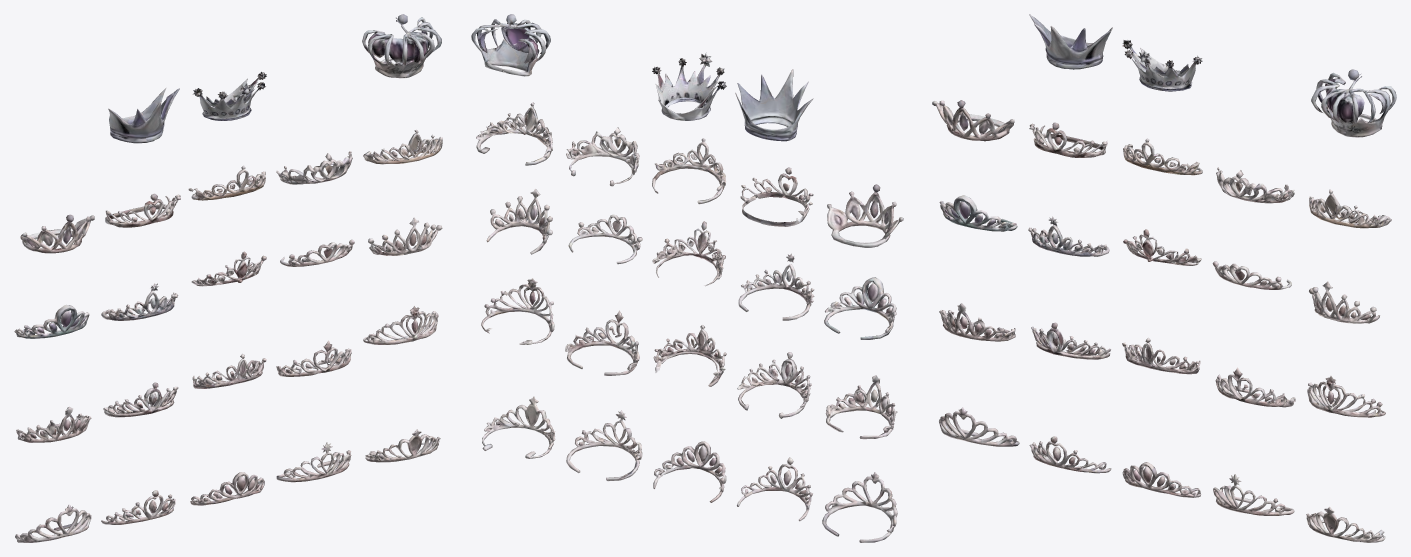
The picture shows the model from 3 angles, left to right: view 1: azimuth 30°, elevation 25°; view 2: azimuth 150°, elevation 25°; view 3: azimuth 330°, elevation 25°; orthographic projection. The views are drawn at different scales.
Parts seen in each view (by area): view 1: Mesh 48, Mesh 10, Mesh 19, Mesh 1, Mesh 44, Mesh 49, Mesh 50, Mesh 6, Mesh 18, Mesh 7, Mesh 12, Mesh 3 (+11 smaller); view 2: Mesh 48, Mesh 10, Mesh 19, Mesh 1, Mesh 6, Mesh 7, Mesh 12, Mesh 40, Mesh 50, Mesh 3, Mesh 49, Mesh 41 (+11 smaller); view 3: Mesh 48, Mesh 10, Mesh 19, Mesh 1, Mesh 44, Mesh 50, Mesh 6, Mesh 12, Mesh 18, Mesh 7, Mesh 3, Mesh 49 (+11 smaller).
Boxes of the visible parts, box(x1,y1,x2,y2) form: Mesh 48: box(362, 14, 441, 78); Mesh 10: box(108, 87, 179, 143); Mesh 19: box(192, 72, 266, 120); Mesh 1: box(20, 214, 94, 253); Mesh 44: box(363, 306, 438, 344); Mesh 49: box(368, 217, 442, 255); Mesh 50: box(363, 129, 442, 164); Mesh 6: box(14, 304, 89, 338); Mesh 18: box(105, 193, 180, 227); Mesh 7: box(16, 406, 91, 442); Mesh 12: box(103, 382, 178, 417); Mesh 3: box(15, 504, 91, 542); Mesh 48: box(471, 14, 550, 76); Mesh 10: box(735, 69, 813, 141); Mesh 19: box(652, 52, 726, 120); Mesh 1: box(827, 184, 903, 247); Mesh 6: box(824, 277, 896, 339); Mesh 7: box(825, 375, 897, 439); Mesh 12: box(737, 352, 811, 418); Mesh 40: box(566, 127, 639, 186); Mesh 50: box(476, 102, 552, 165); Mesh 3: box(822, 472, 897, 542); Mesh 49: box(486, 189, 552, 254); Mesh 41: box(565, 310, 639, 375); Mesh 48: box(1311, 69, 1396, 137); Mesh 10: box(1029, 14, 1112, 69); Mesh 19: box(1122, 40, 1202, 91); Mesh 1: box(932, 100, 1014, 141); Mesh 44: box(1307, 376, 1385, 417); Mesh 50: box(1309, 189, 1391, 228); Mesh 6: box(939, 195, 1017, 231); Mesh 12: box(1031, 322, 1110, 359); Mesh 18: box(1029, 122, 1107, 157); Mesh 7: box(939, 303, 1015, 341); Mesh 3: box(939, 407, 1019, 446); Mesh 49: box(1309, 281, 1379, 323).
Bounding box in the file's own units: 1.9 × 1.89 × 0.2579.
Materials: 23 (23 with a texture image).
